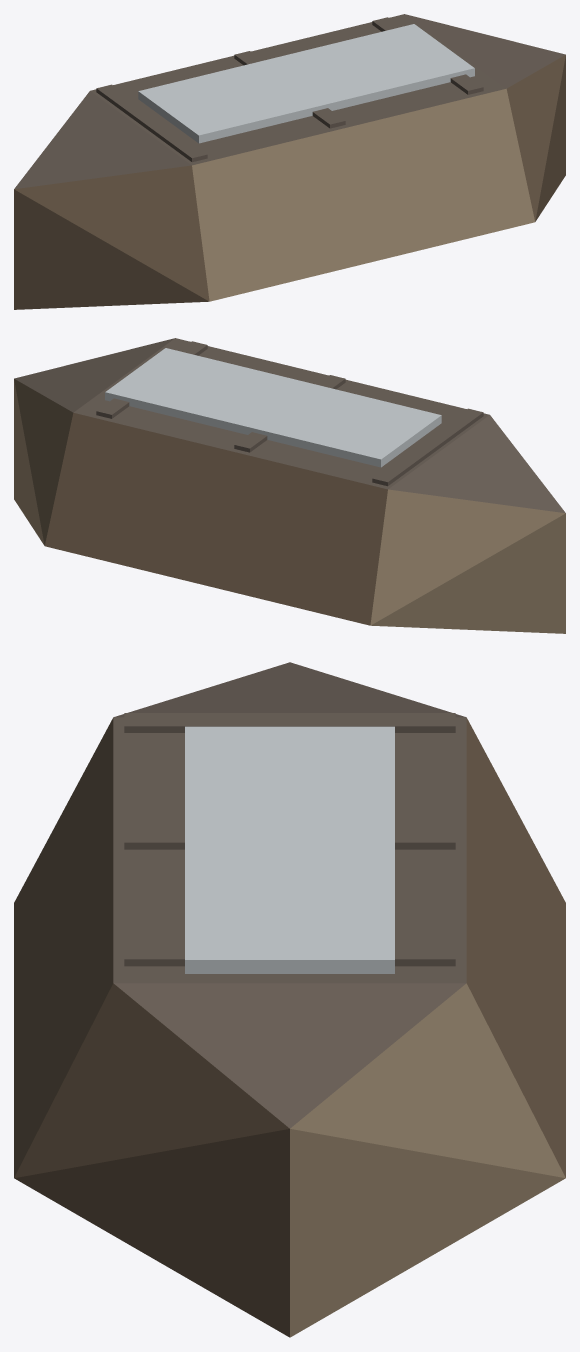
Rendered from overturned_boat.glb.
3 views of the same model, one above another, from view 1: azimuth 30°, elevation 25°; view 2: azimuth 150°, elevation 25°; view 3: azimuth 270°, elevation 25° (orthographic). The views are drawn at different scales.
Visible parts, largest first — view 1: overturned_boat; view 2: overturned_boat; view 3: overturned_boat.
Part boxes in pixels (bbox=[...]): overturned_boat: bbox=[14, 14, 565, 309]; overturned_boat: bbox=[14, 338, 565, 633]; overturned_boat: bbox=[14, 662, 565, 1337].
Bounding box in the file's own units: 4 × 1.1 × 2.
